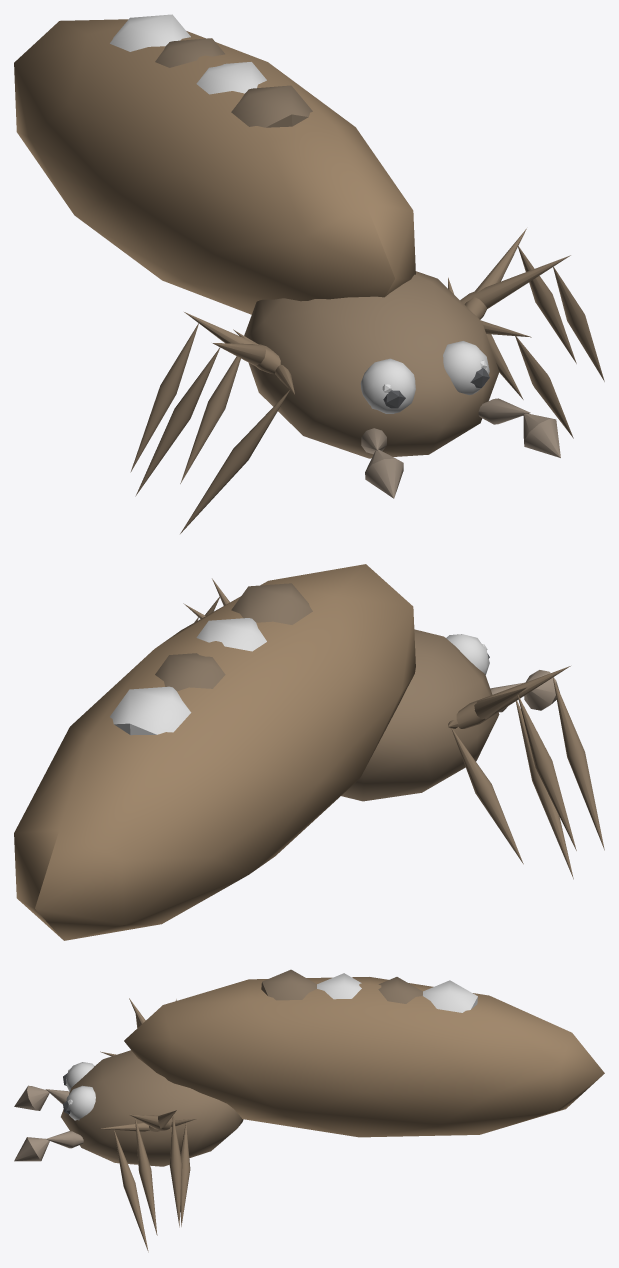
Rendered from cyclosa-insulana.glb.
3 renders of one model, top to bottom at view 1: azimuth 30°, elevation 25°; view 2: azimuth 150°, elevation 25°; view 3: azimuth 270°, elevation 25°, orthographic. The views are drawn at different scales.
Visible parts, largest first — view 1: abdomen, cephalothorax, leg1-r0, leg2-l0, leg2-r0, eye0-r, leg1-l0, leg3-r0, eye0-l, leg0-r0, leg3-l0, palp-l1 (+2 smaller); view 2: abdomen, cephalothorax, leg2-r0, leg1-r0, leg0-r0, leg3-r0, eye0-r, palp-r1; view 3: abdomen, cephalothorax, leg2-l0, leg3-l0, leg1-l0, eye0-l, leg0-l0, palp-l1, palp-r1, eye0-r, palp-l0.
Part boxes in pixels (x1,y1,x2,y2): abdomen: [14, 14, 415, 314]; cephalothorax: [244, 271, 499, 458]; leg1-r0: [130, 312, 280, 472]; leg2-l0: [460, 255, 604, 381]; leg2-r0: [135, 343, 271, 496]; eye0-r: [360, 358, 415, 413]; leg1-l0: [464, 228, 576, 363]; leg3-r0: [180, 364, 294, 533]; eye0-l: [443, 341, 489, 395]; leg0-r0: [180, 329, 257, 483]; leg3-l0: [481, 320, 573, 438]; palp-l1: [523, 413, 560, 457]; abdomen: [14, 564, 415, 940]; cephalothorax: [341, 629, 499, 801]; leg2-r0: [456, 666, 604, 850]; leg1-r0: [474, 687, 576, 850]; leg0-r0: [448, 720, 523, 864]; leg3-r0: [516, 701, 573, 879]; eye0-r: [446, 634, 489, 674]; palp-r1: [524, 670, 559, 710]; abdomen: [124, 969, 604, 1137]; cephalothorax: [61, 1050, 243, 1166]; leg2-l0: [129, 1114, 170, 1235]; leg3-l0: [100, 1122, 150, 1252]; leg1-l0: [149, 1110, 182, 1227]; eye0-l: [63, 1085, 95, 1120]; leg0-l0: [170, 1119, 195, 1226]; palp-l1: [14, 1137, 49, 1161]; palp-r1: [14, 1085, 49, 1110]; eye0-r: [63, 1062, 94, 1091]; palp-l0: [45, 1131, 83, 1148].
Bounding box in the file's own units: 0.3825 × 0.2478 × 0.6242.
